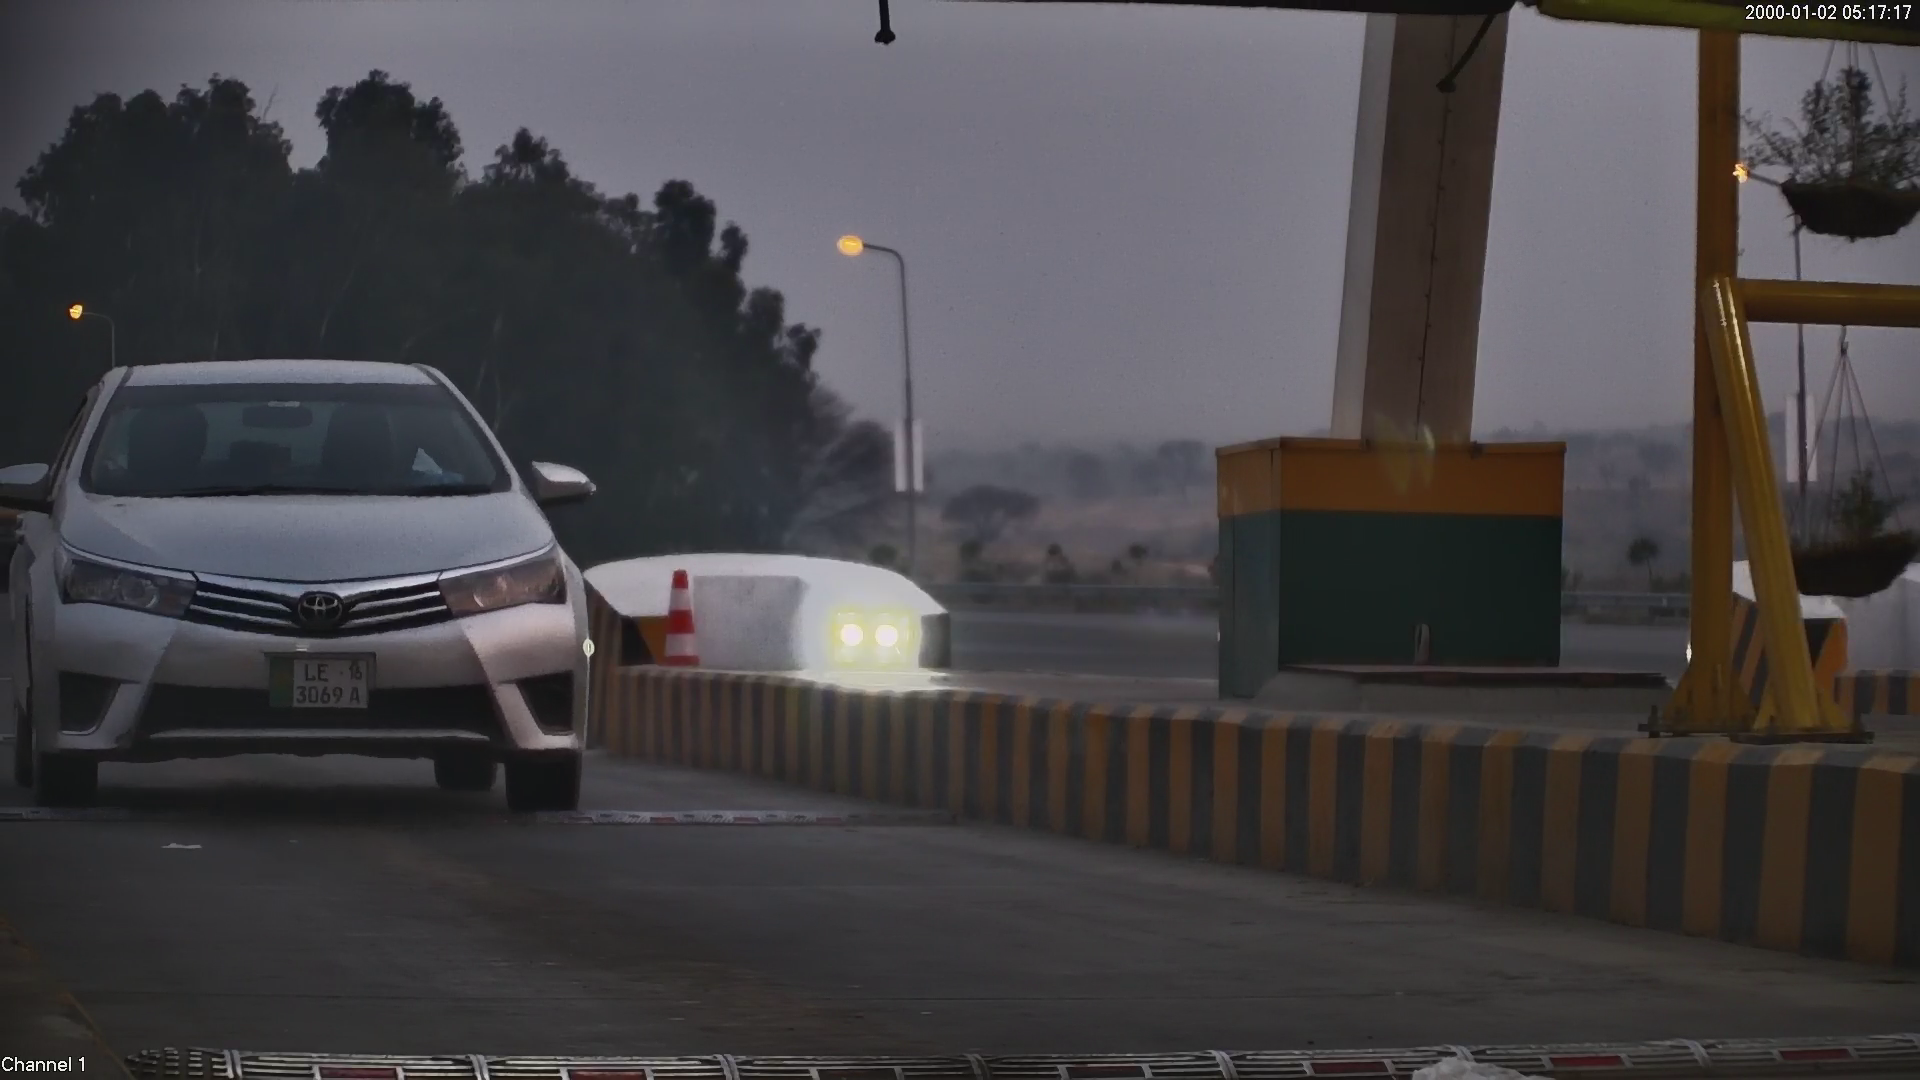Number_Plate: (259, 644, 384, 718)
